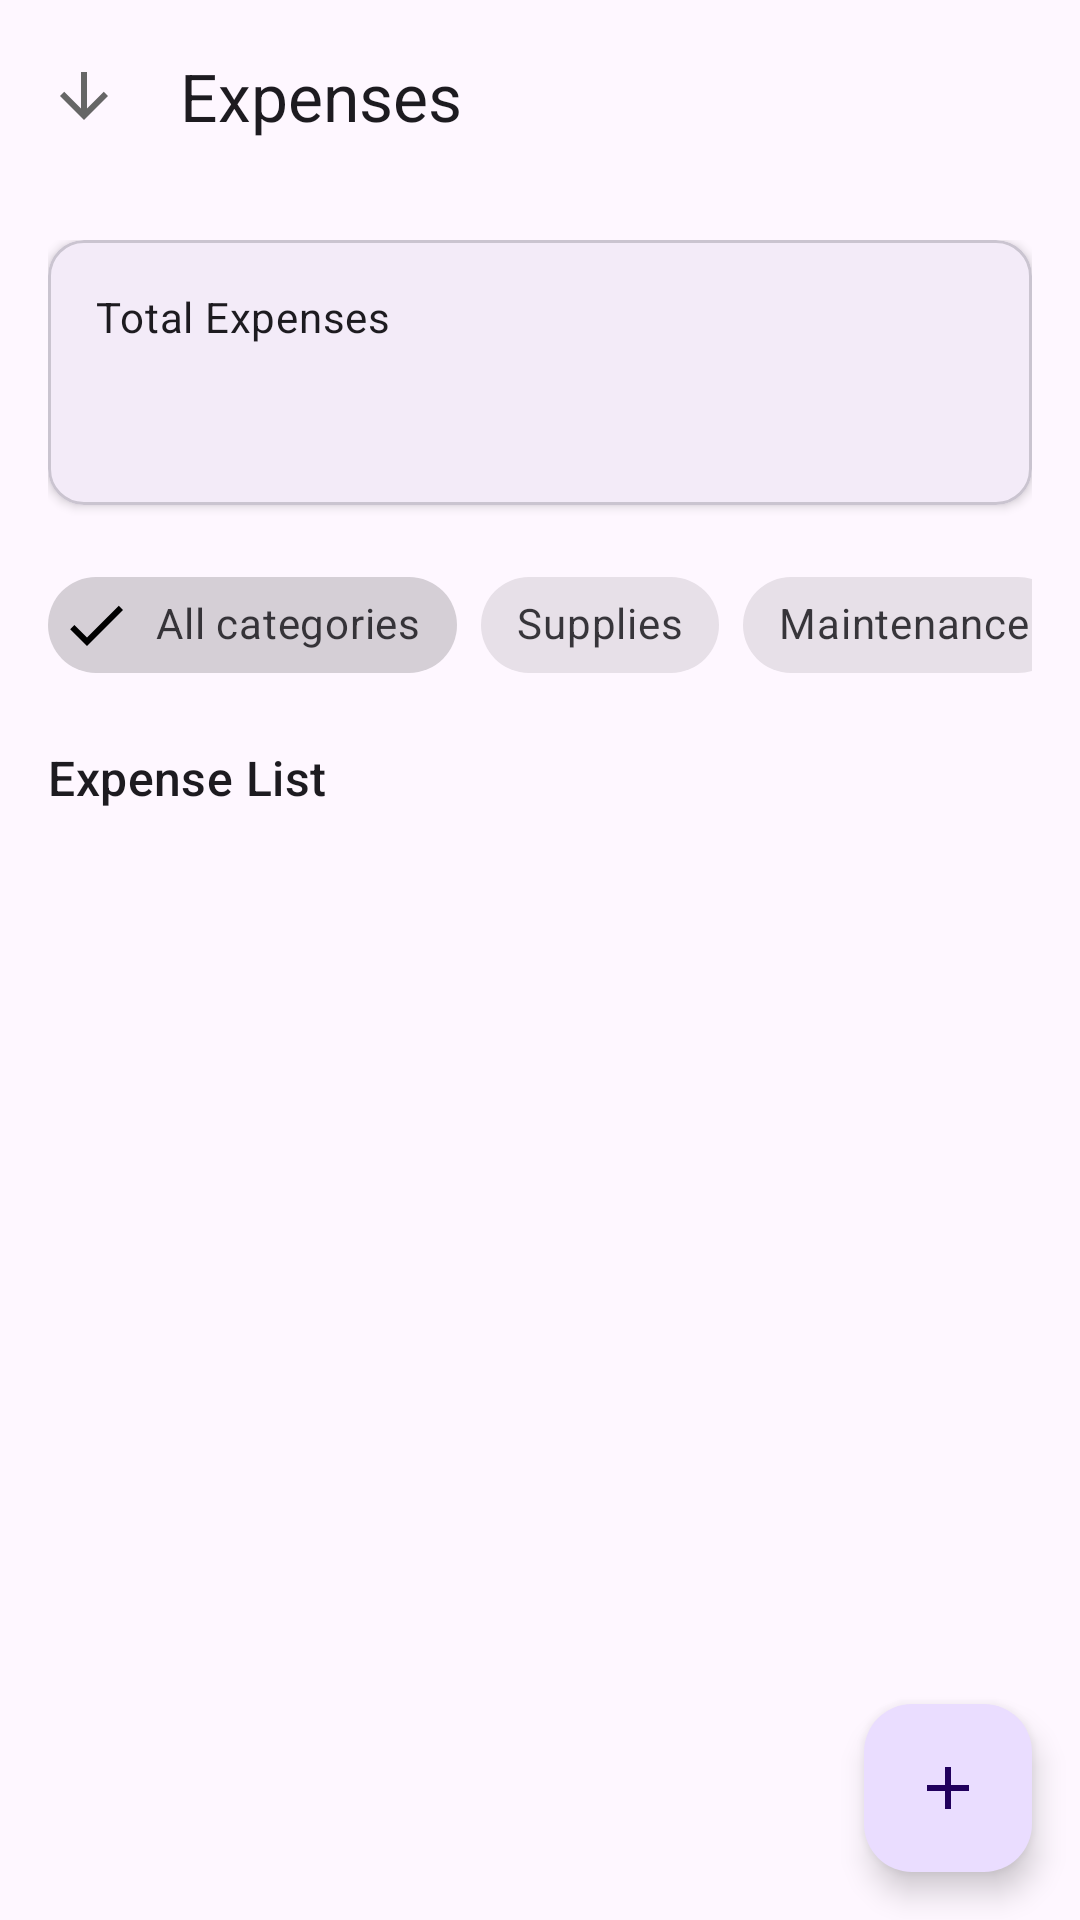

Where to tap for icons on this 1080×1920 app screen, as (x,y):
Add Expense: (948,1788)
